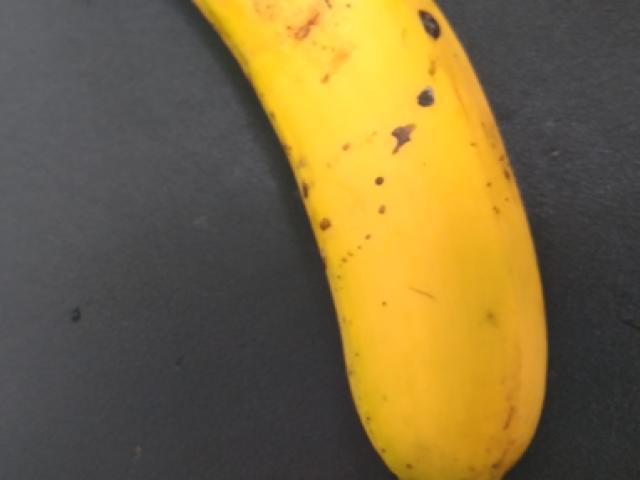ripe: (169, 0, 562, 469)
